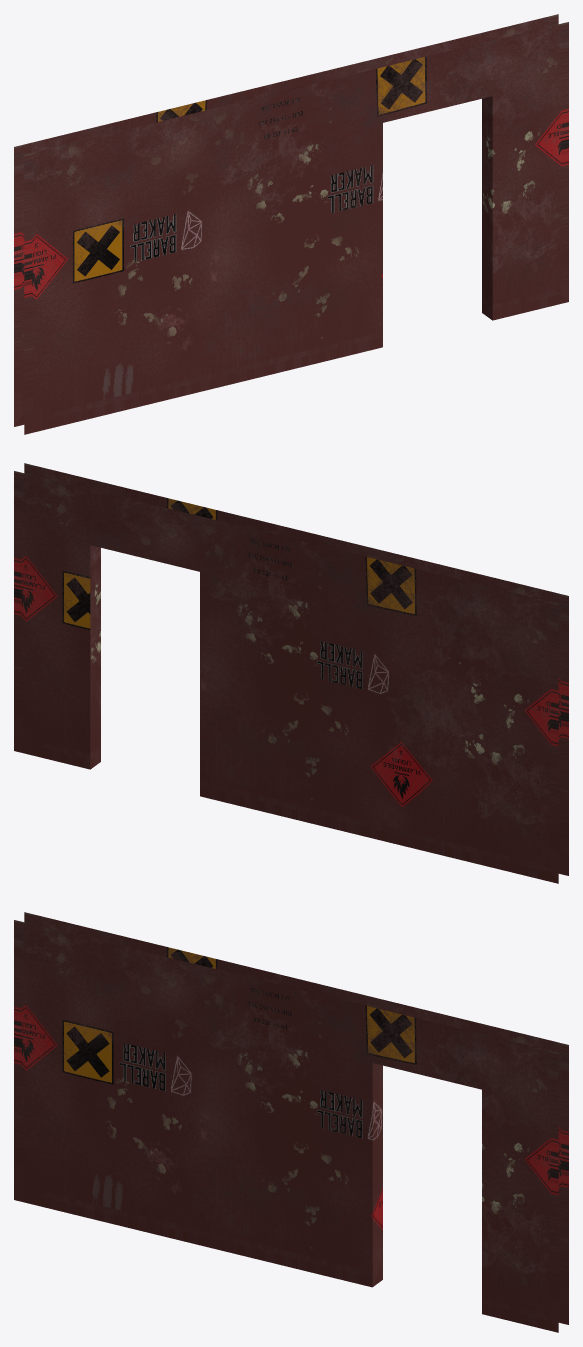
File: CS_wall_door.FBX
3 views of the same model, one above another, from view 1: azimuth 30°, elevation 25°; view 2: azimuth 150°, elevation 25°; view 3: azimuth 330°, elevation 25° (orthographic).
Parts seen in each view (by area): view 1: SM_wall_door; view 2: SM_wall_door; view 3: SM_wall_door.
Part boxes in pixels (left/top/right/bottom): SM_wall_door: left=14, top=14, right=568, bottom=434; SM_wall_door: left=14, top=463, right=568, bottom=883; SM_wall_door: left=14, top=912, right=568, bottom=1332.
Size of the model in its own units: 600 by 20 by 295.
